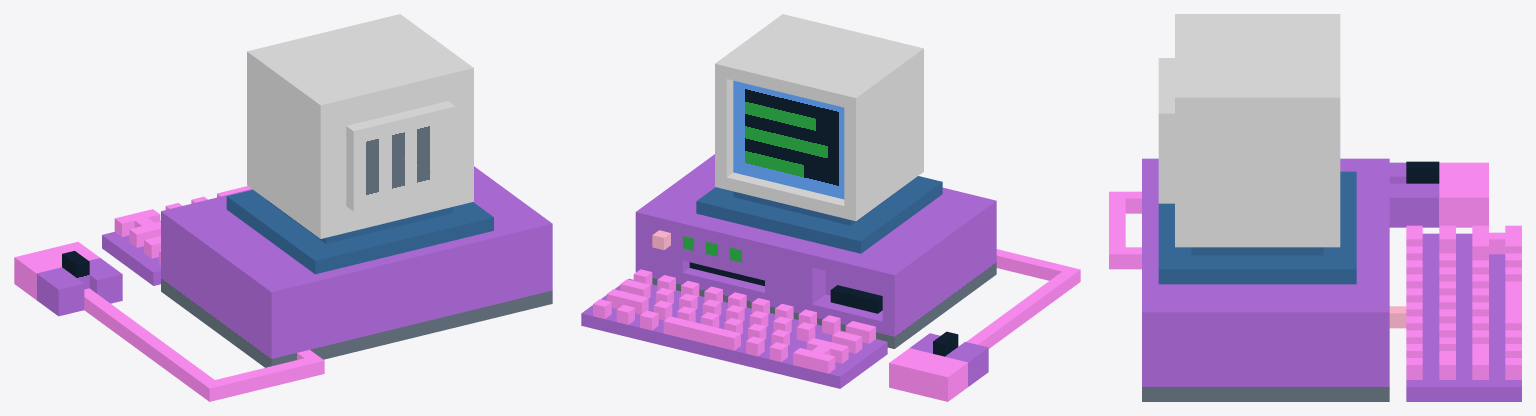
3 views of the same model, side by side, from view 1: azimuth 30°, elevation 25°; view 2: azimuth 150°, elevation 25°; view 3: azimuth 270°, elevation 25° (orthographic). The views are drawn at different scales.
Visible parts, largest first — view 1: Object; view 2: Object; view 3: Object.
Boxes of the visible parts, <box> form: Object: <box>14,14,552,401</box>; Object: <box>581,14,1080,401</box>; Object: <box>1109,14,1521,401</box>.
Size of the model in its own units: 30 by 18 by 25.
1 material, 1 textured.
